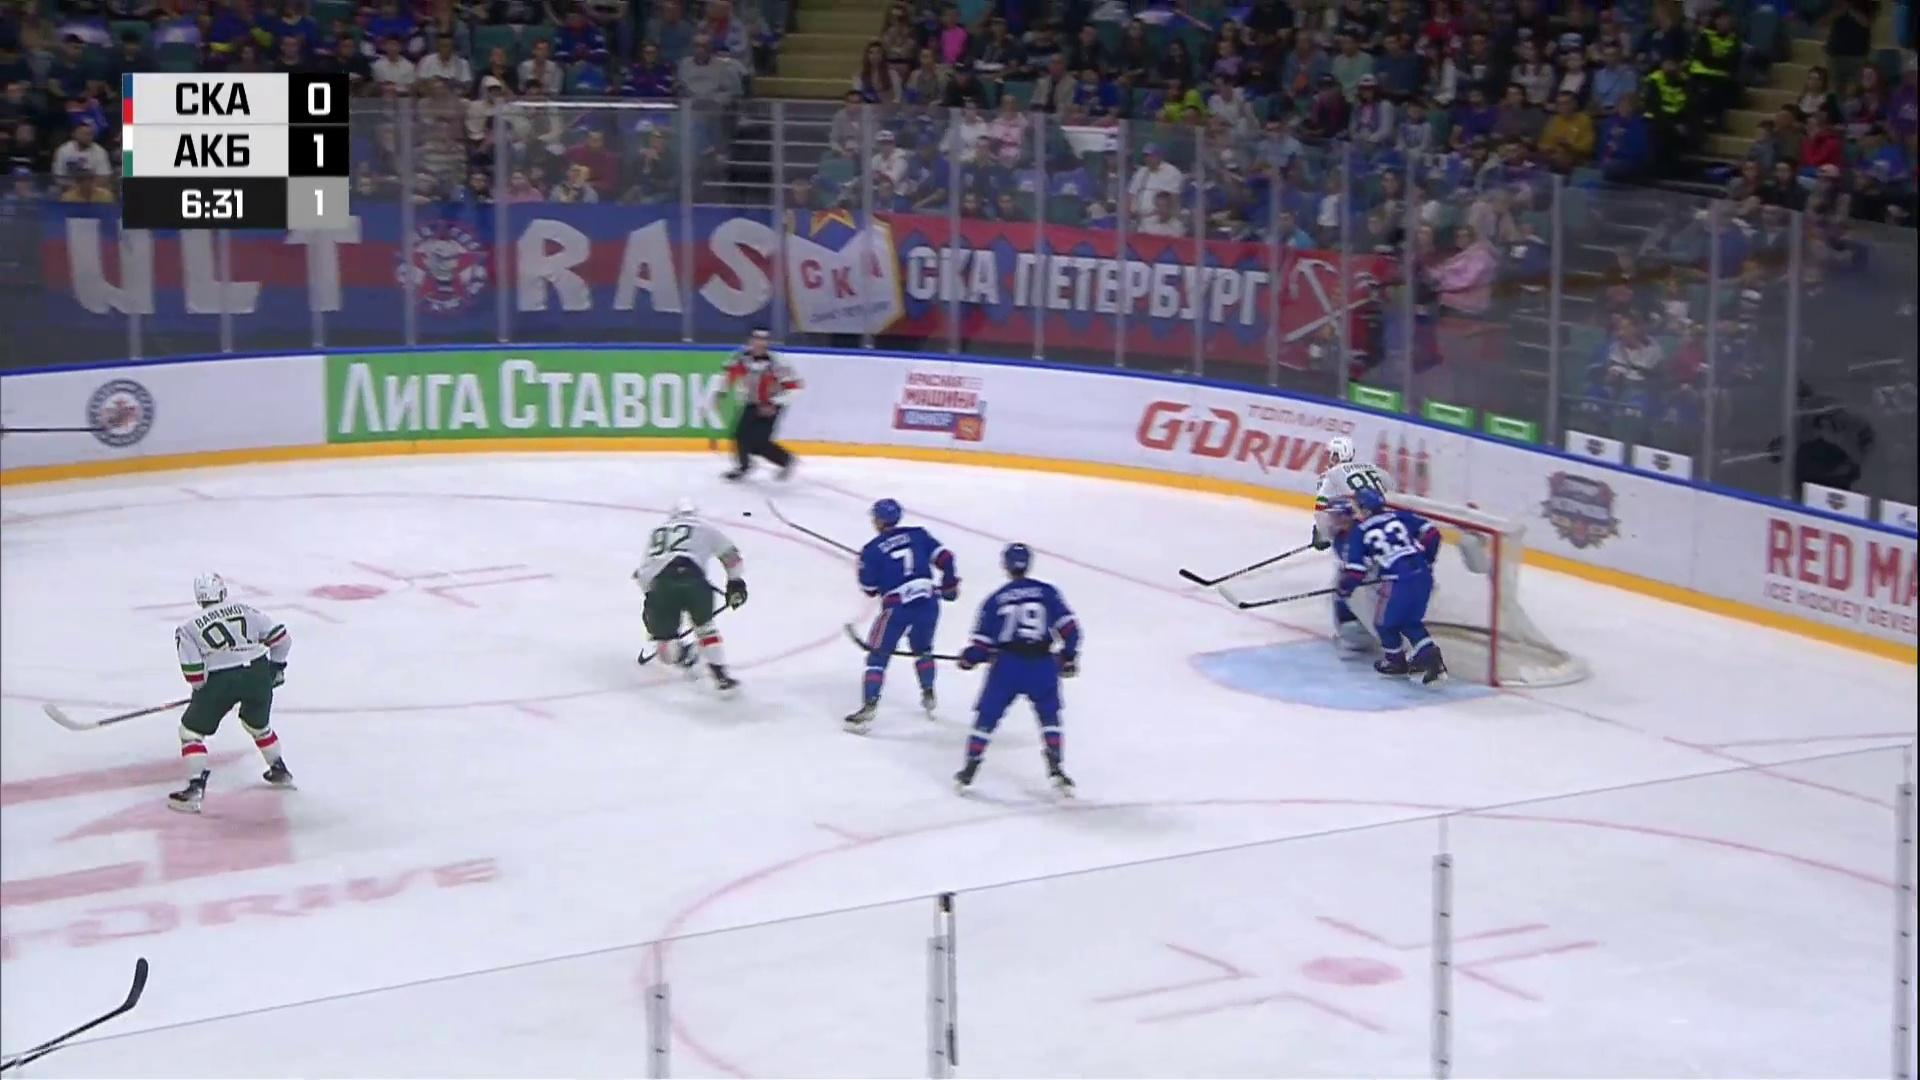ball: (742, 512, 752, 517)
